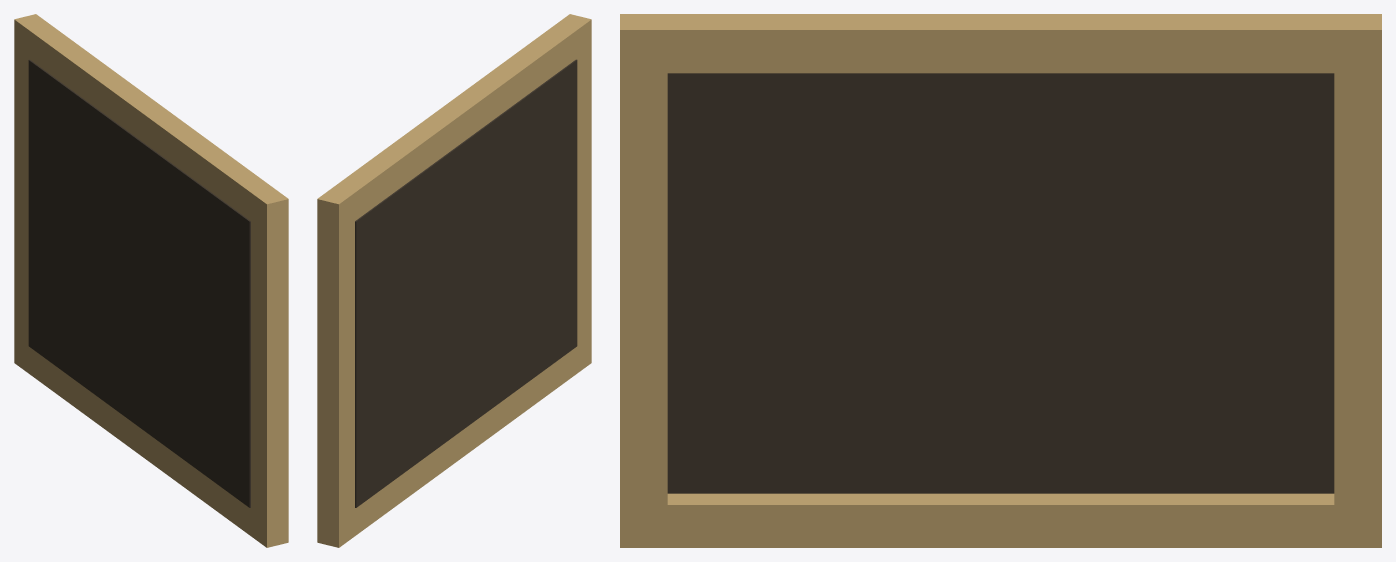
File: SM_Mob_Tablo.fbx
3 views of the same model, side by side, from view 1: azimuth 30°, elevation 25°; view 2: azimuth 150°, elevation 25°; view 3: azimuth 270°, elevation 25° (orthographic). The views are drawn at different scales.
Visible parts, largest first — view 1: Mob_Tablo; view 2: Mob_Tablo; view 3: Mob_Tablo.
Part boxes in pixels (x1,y1,x2,y2): Mob_Tablo: (14,14,288,547); Mob_Tablo: (317,14,591,547); Mob_Tablo: (620,14,1381,547).
Size of the model in its own units: 8.5 by 120 by 160.
